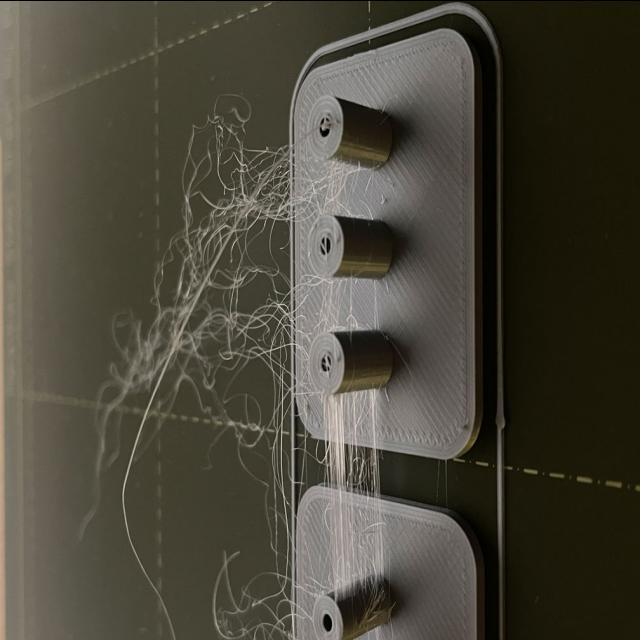Stringing: (329, 389, 384, 567), (271, 371, 300, 521), (232, 596, 306, 634)
